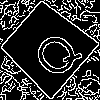Q: (23, 23, 85, 84)
